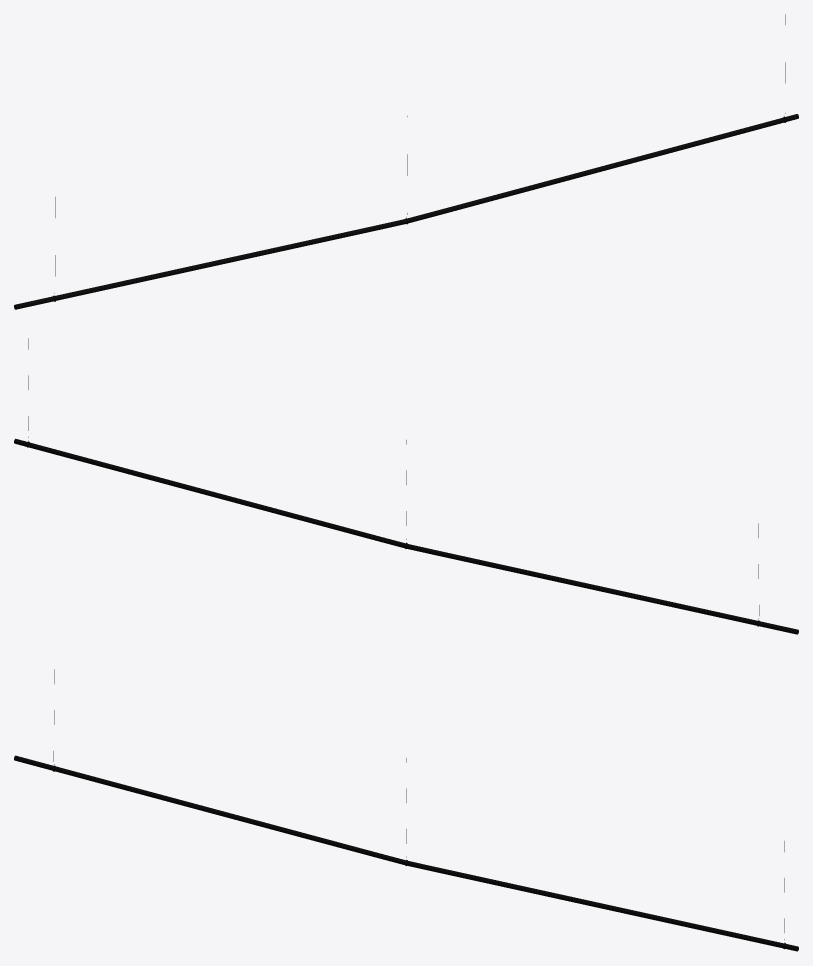
The model's file is BlackMetal006.FBX.
3 renders of one model, top to bottom at view 1: azimuth 30°, elevation 25°; view 2: azimuth 150°, elevation 25°; view 3: azimuth 330°, elevation 25°, orthographic.
Visible parts, largest first — view 1: BlackMetal006; view 2: BlackMetal006; view 3: BlackMetal006.
Part boxes in pixels (x1,y1,x2,y2): BlackMetal006: [14, 14, 798, 309]; BlackMetal006: [14, 338, 798, 634]; BlackMetal006: [14, 669, 798, 951].
Size of the model in its own units: 18.31 by 2.64 by 0.1219.
1 material, 1 textured.
